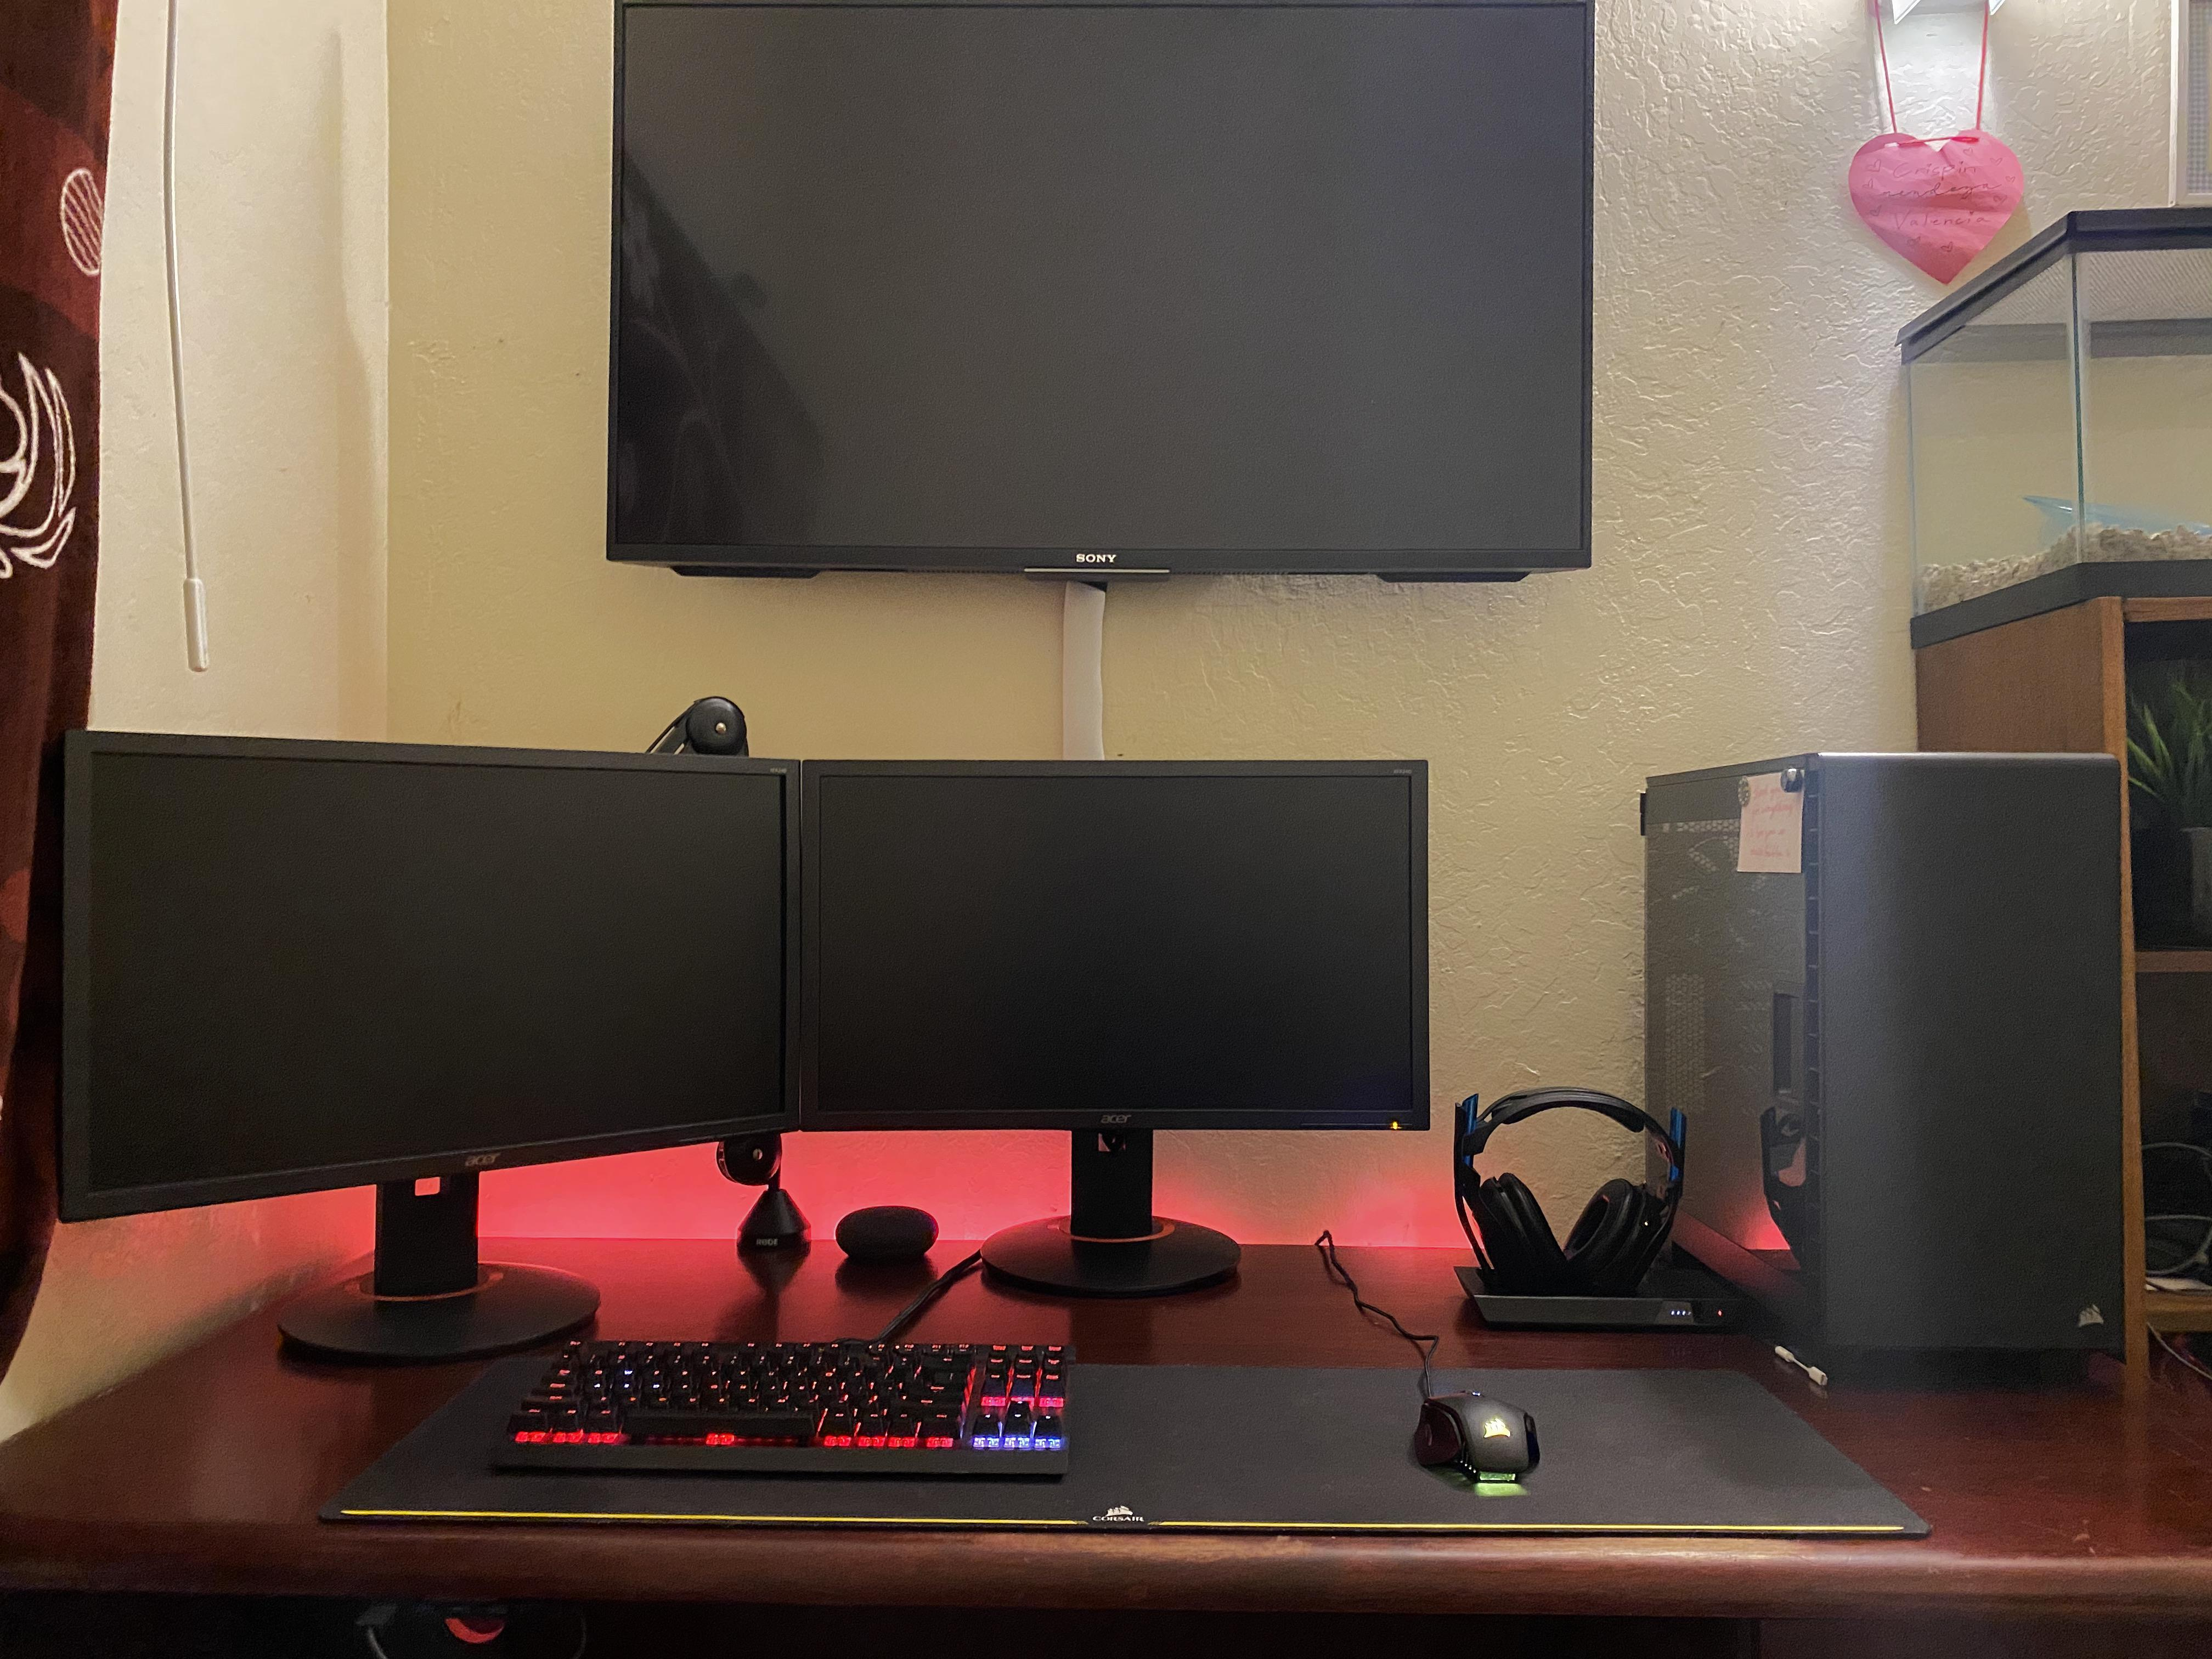Decoration (Generic): (1815, 0, 2052, 286)
Desk (Generic): (0, 1237, 2212, 1650)
Desktop (Generic): (1606, 734, 2141, 1399)
Headphones: (1440, 1075, 1702, 1317)
Keyboard (Gaming): (500, 1314, 1101, 1497)
Monitor (Landscape): (594, 0, 1629, 591), (23, 711, 812, 1391), (782, 737, 1456, 1310)
Mouse (Gaming): (1397, 1377, 1568, 1507)
Mousepad (Gaming): (305, 1326, 1977, 1553)
Router: (1440, 1246, 1759, 1337)
